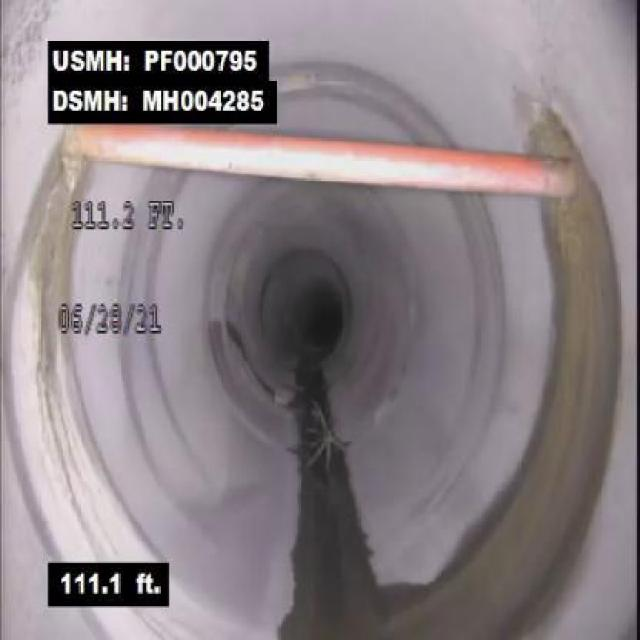Utility intrusion: (55, 111, 588, 206)
